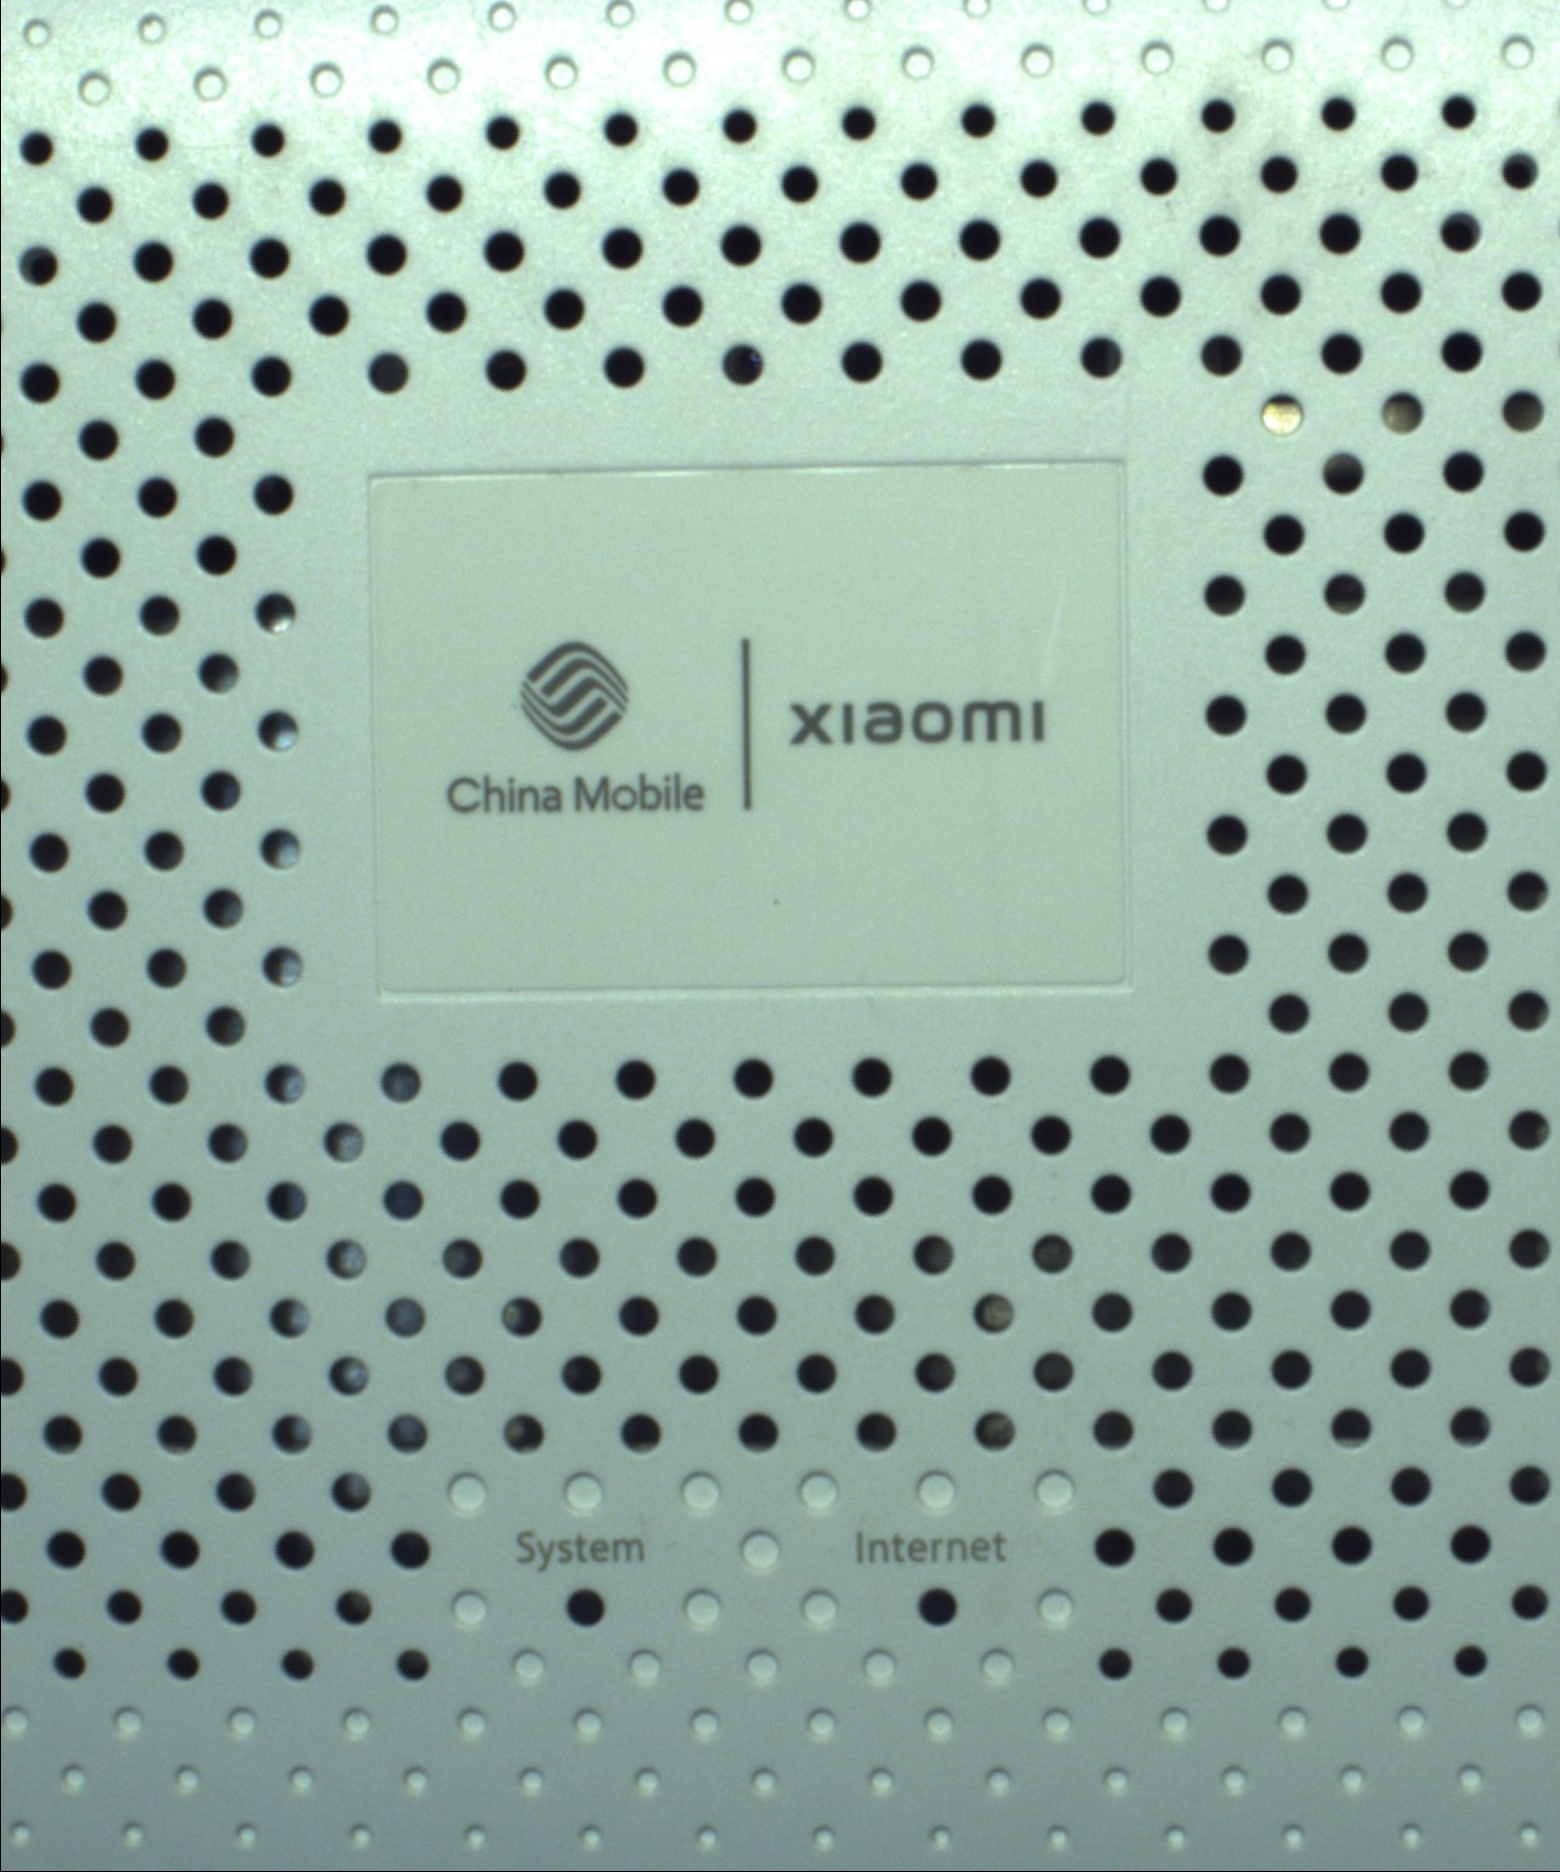MAD_ChinaMobile: (435, 631, 1058, 829)
